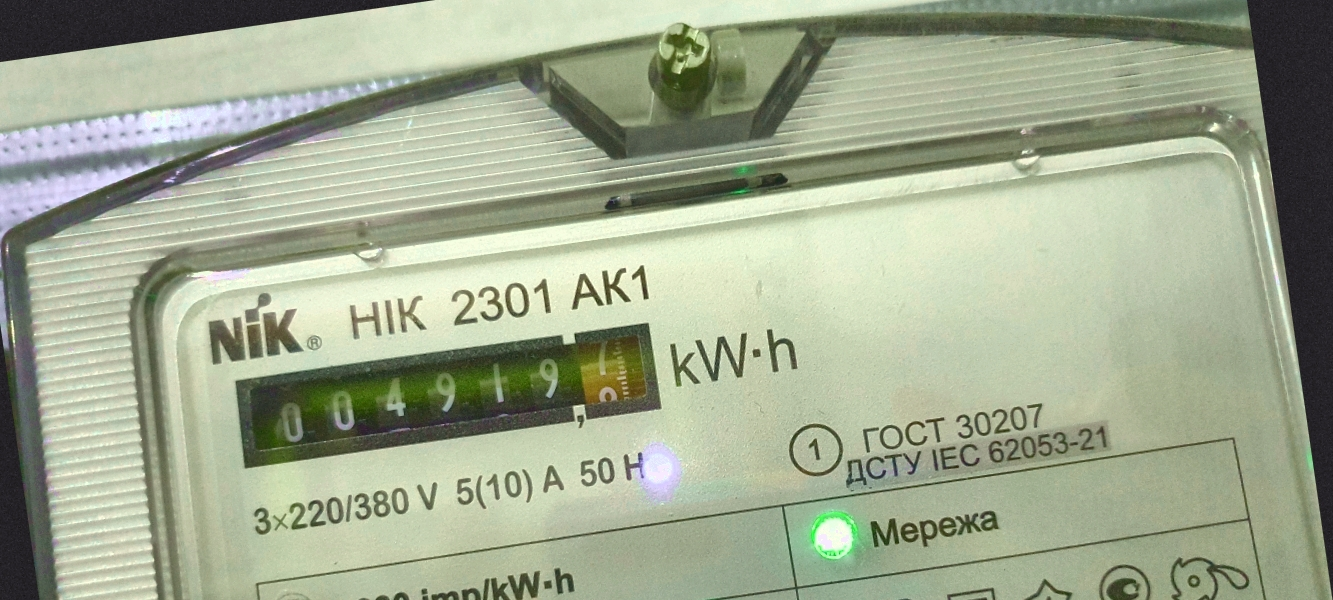0: (326, 385, 358, 433), (276, 397, 306, 444)
1: (486, 358, 507, 405)
4: (378, 373, 408, 419)
7: (585, 336, 614, 378)
9: (534, 352, 563, 402), (431, 368, 460, 415)
screen: (219, 304, 680, 487)
